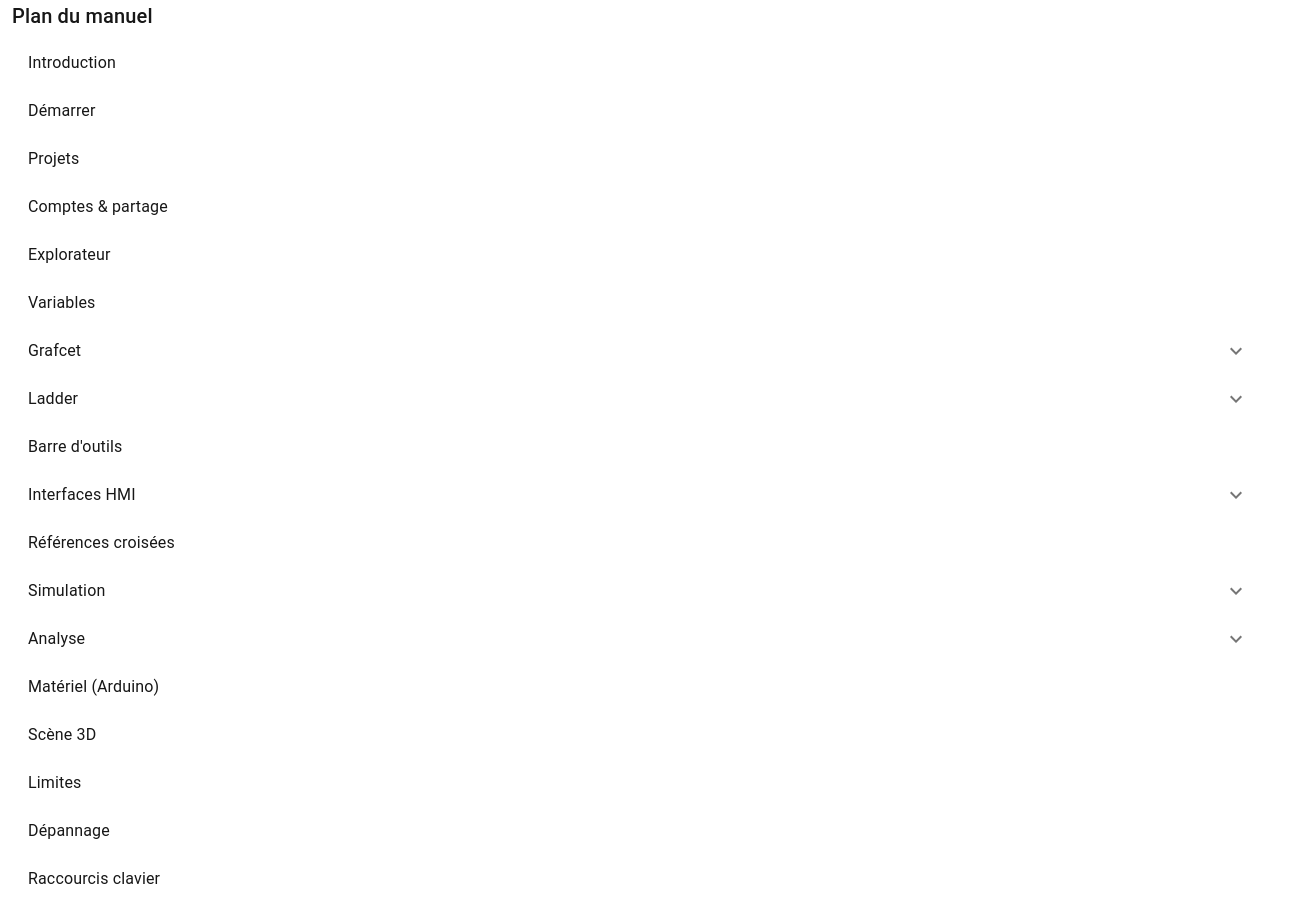
ManualNav › déplie une section au clic et expose ses sous-sections
The image size is (1292, 900).
Expected: the text "Renvois" is not shown
Click the link "Grafcet".
click(55, 350)  # box [28, 339, 1248, 363]
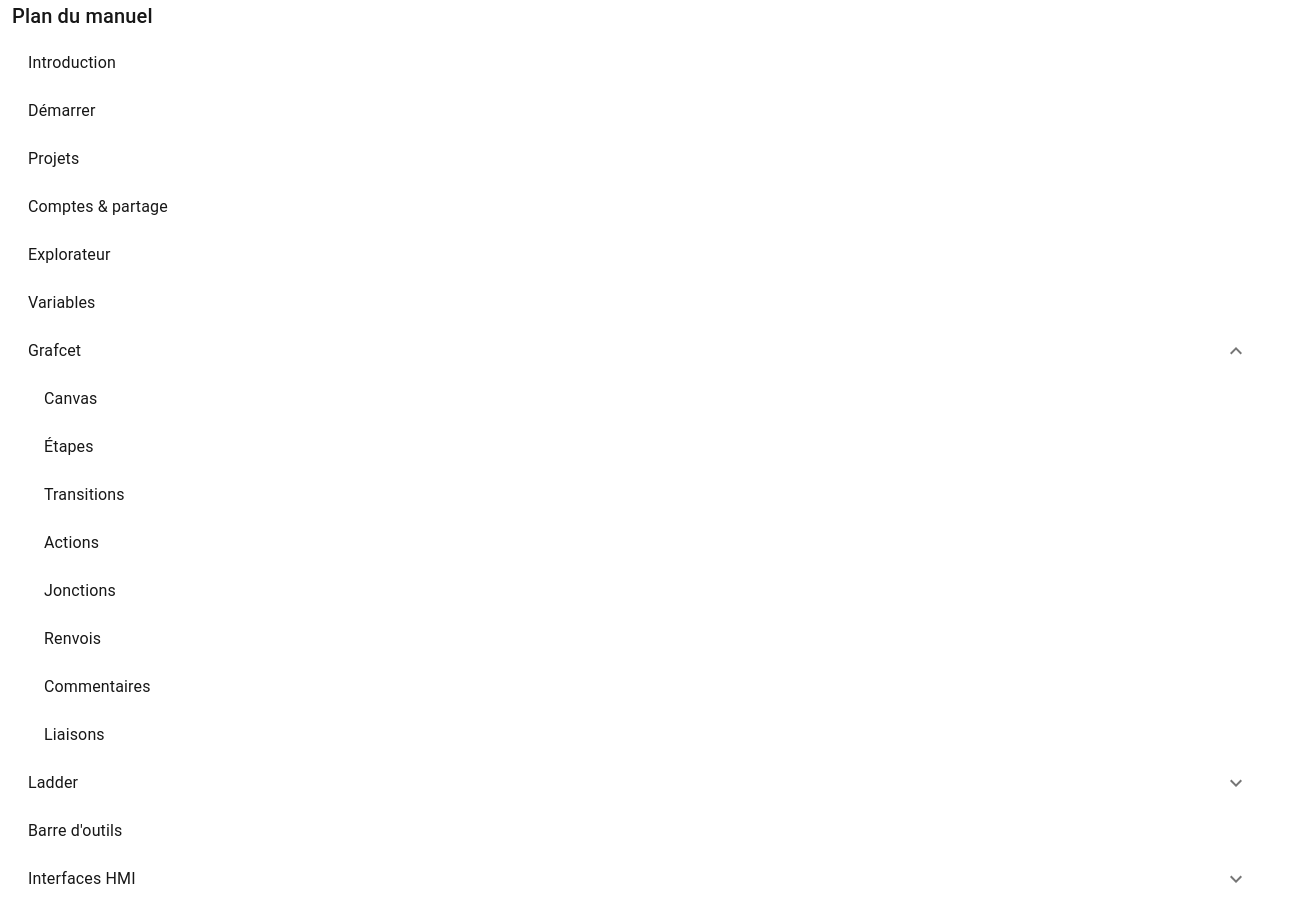
Result: the text "Renvois" is shown at [44, 629, 101, 648]
